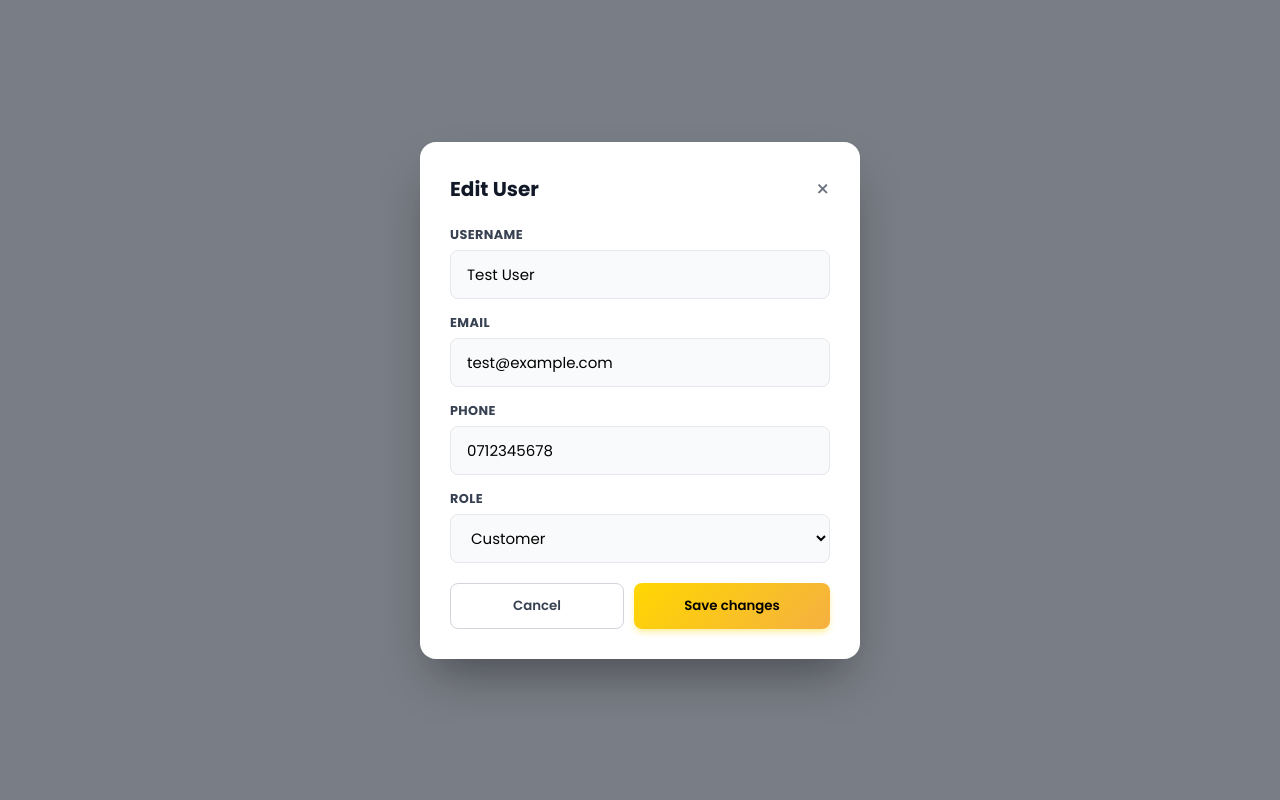
EditUserModal › blocks submit and shows an error when phone is not a valid Kenyan number
Type "12345" into the field labelled "Phone" at (640, 450), box top-left (450, 426), bottom-right (830, 474)
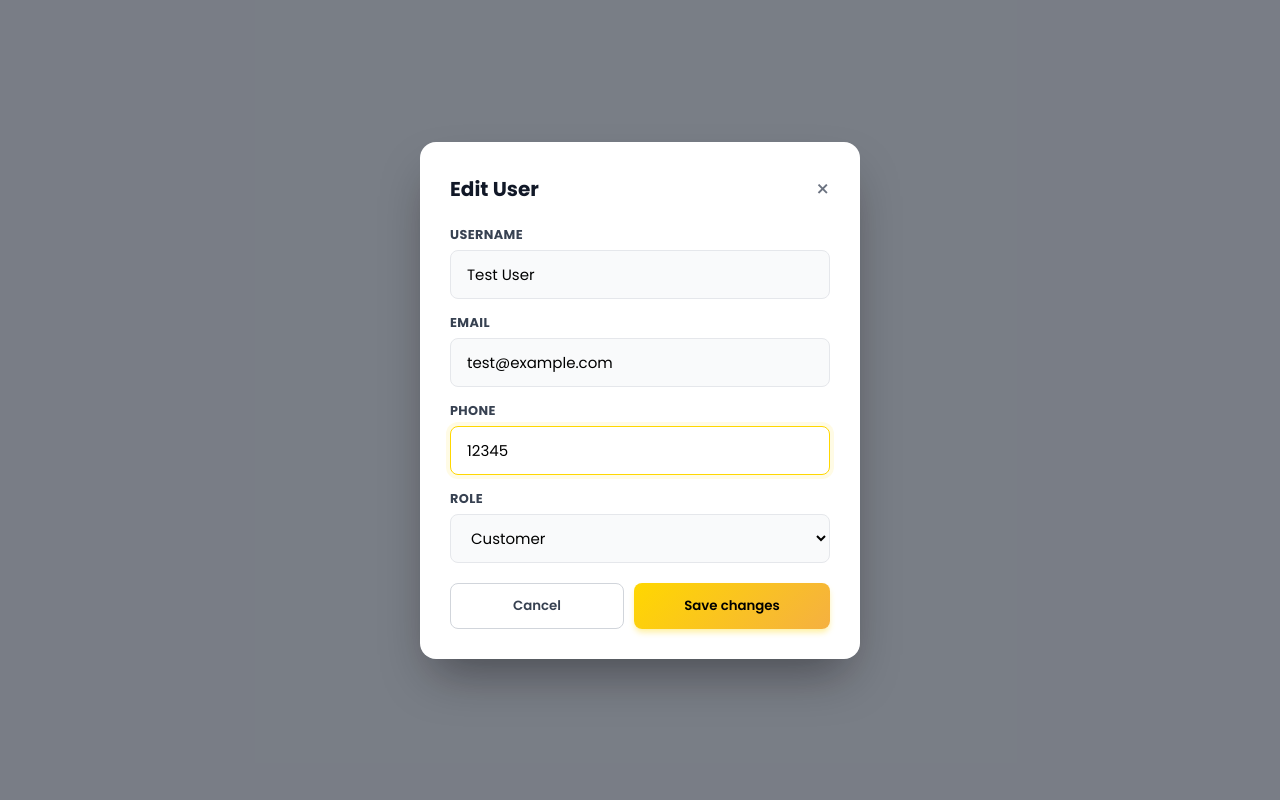
Click the button "Save changes" at (732, 606), box top-left (634, 582), bottom-right (830, 628)
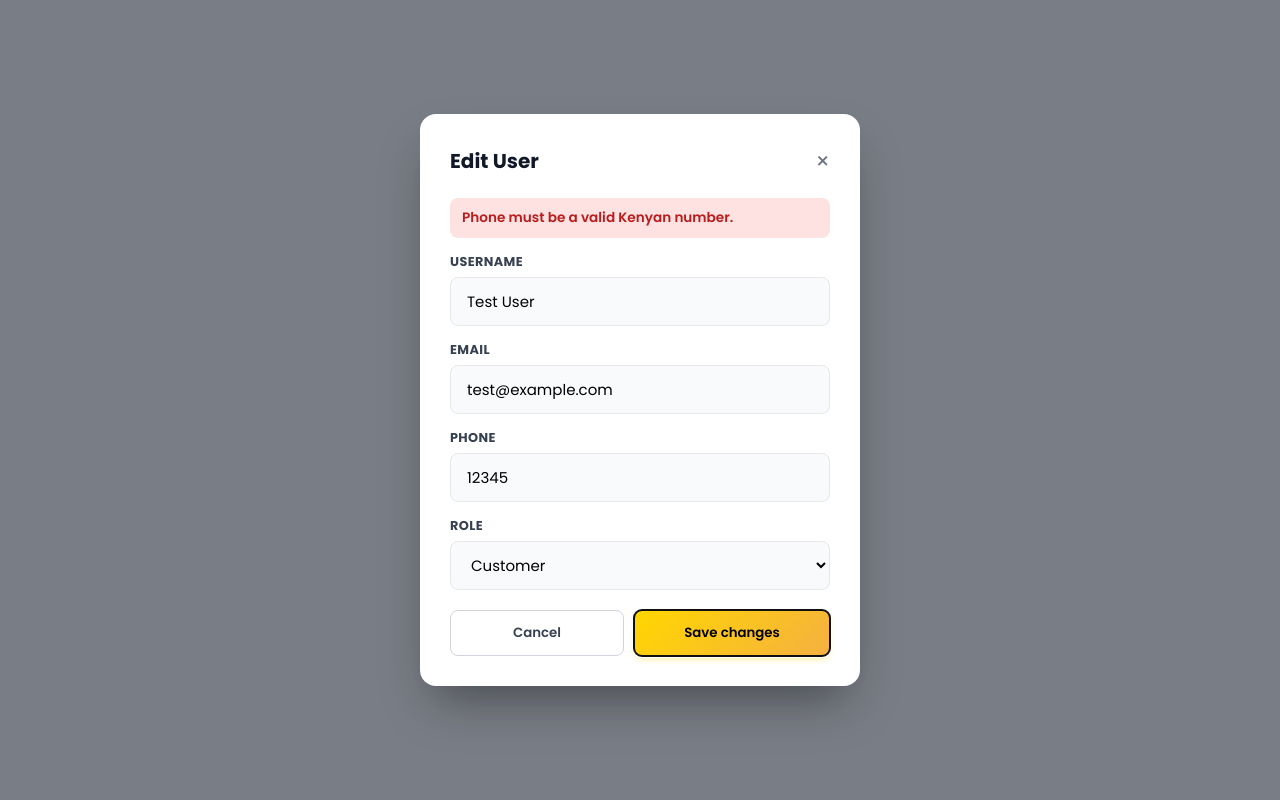
Check: the text "Phone must be a valid Kenyan number." is shown, box top-left (450, 198), bottom-right (830, 238)
